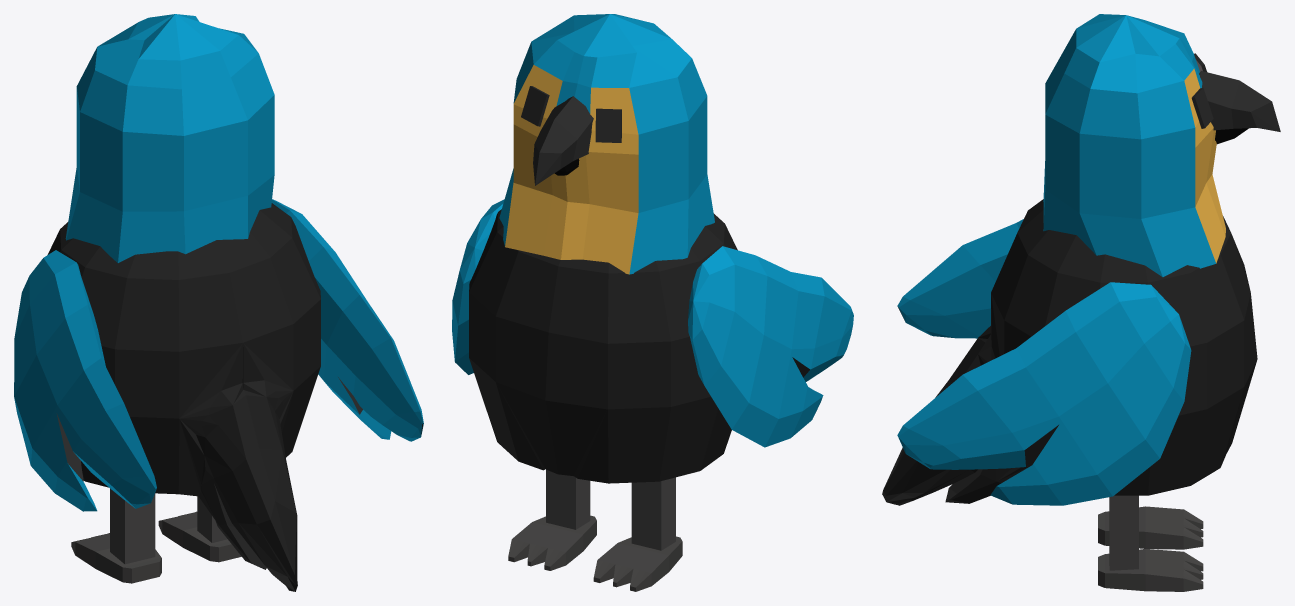
Rendered from AraraAzul.fbx.
3 renders of one model, left to right at view 1: azimuth 30°, elevation 25°; view 2: azimuth 150°, elevation 25°; view 3: azimuth 270°, elevation 25°, orthographic.
Parts seen in each view (by area): view 1: Sphere.002, Sphere.007, Sphere.008, Cube.003; view 2: Sphere.002, Sphere.007, Sphere.008, Cube.003, Cone.001, Cube.009, Cube.008; view 3: Sphere.008, Sphere.007, Sphere.002, Cube.003, Cone.001, Cube.008.
Part boxes in pixels (x1,y1,x2,y2): Sphere.002: (47,203,320,591); Sphere.007: (65,14,274,262); Sphere.008: (14,199,423,511); Cube.003: (71,511,241,583); Sphere.002: (469,209,737,550); Sphere.007: (499,14,714,274); Sphere.008: (452,199,853,447); Cube.003: (508,515,682,591); Cone.001: (533,96,593,185); Cube.009: (595,108,621,142); Cube.008: (521,86,549,126); Sphere.008: (897,219,1191,505); Sphere.007: (1043,14,1225,276); Sphere.002: (882,199,1257,570); Cube.003: (1098,506,1203,591); Cone.001: (1199,71,1280,131); Cube.008: (1191,87,1213,128).
Size of the model in its own units: 270 by 446 by 298.
